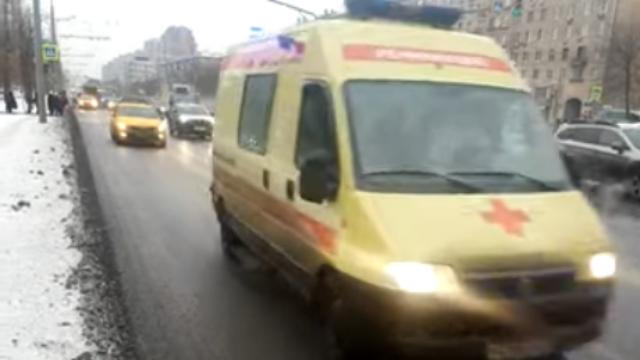intensive care unit: (217, 1, 619, 359)
non emergency car: (553, 117, 639, 200), (109, 103, 167, 151), (170, 100, 215, 145), (77, 94, 102, 113)
